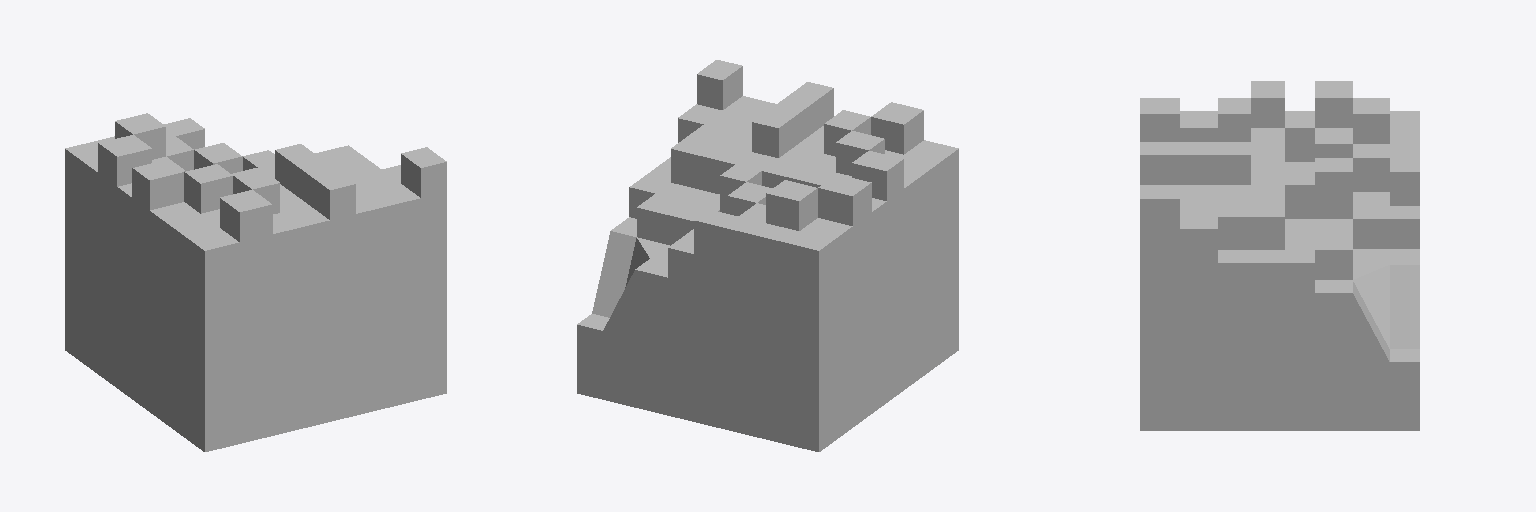
File: mHillCorner.obj
3 views of the same model, side by side, from view 1: azimuth 30°, elevation 25°; view 2: azimuth 150°, elevation 25°; view 3: azimuth 270°, elevation 25° (orthographic).
Visible parts, largest first — view 1: mCornerHill; view 2: mCornerHill; view 3: mCornerHill.
Boxes of the visible parts, <box> form: mCornerHill: <box>65,113,446,451</box>; mCornerHill: <box>577,60,958,451</box>; mCornerHill: <box>1140,81,1419,430</box>.
Size of the model in its own units: 18 by 16.44 by 18.